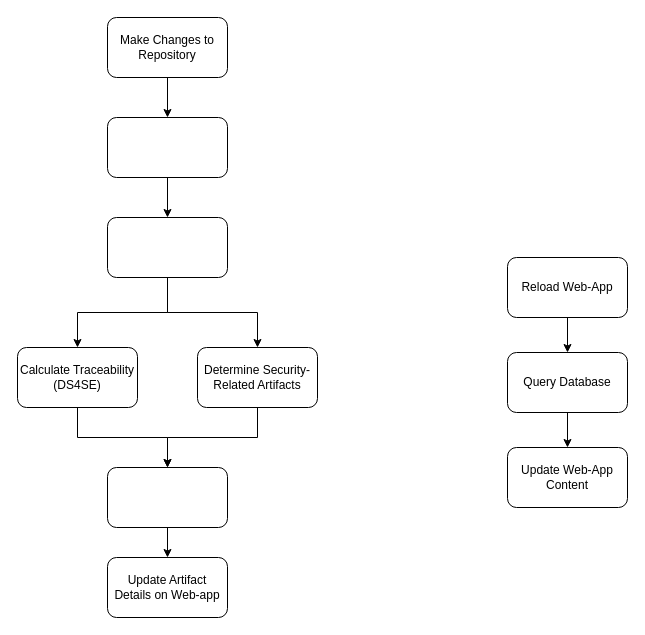
The diagram is 645 pixels wide and 635 high, and some of its shapes have lost their labels. The centre of each missing label's shape, as x and y in pixels:
Commit & Push Changes: point 167,147
Save Repository Instance/Version to Database: point 167,497
Trigger Jenkins & Run Backend Script: point 167,247
